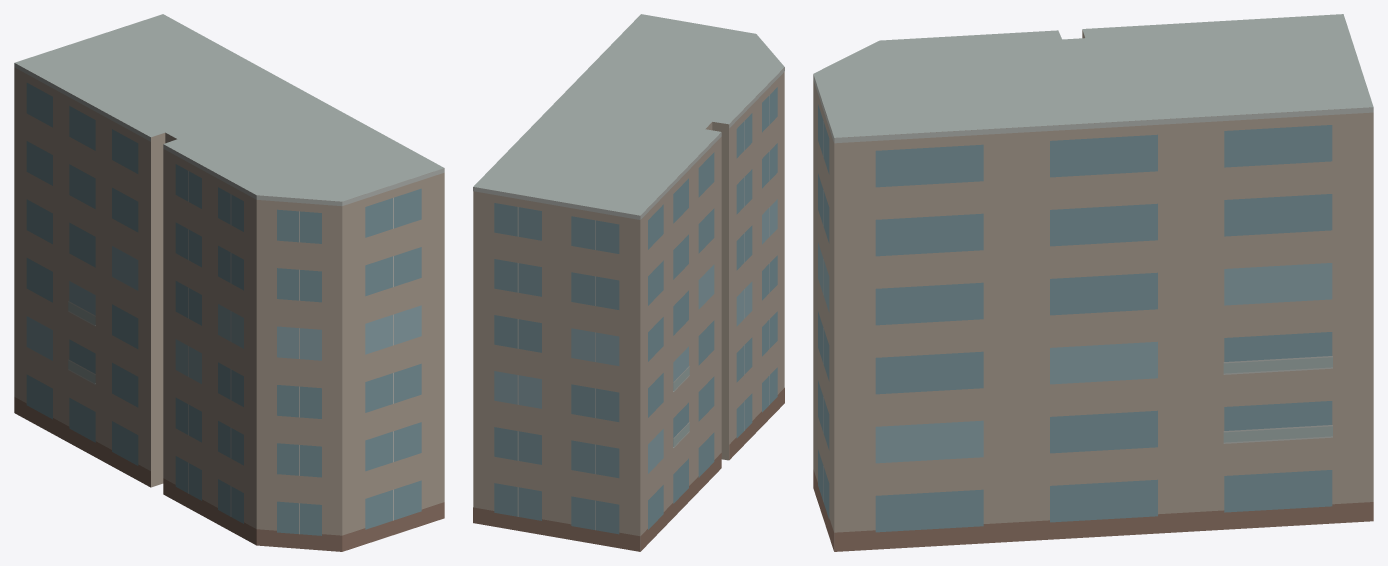
Rendered from survey-upis-32747908.glb.
3 views of the same model, side by side, from view 1: azimuth 30°, elevation 25°; view 2: azimuth 150°, elevation 25°; view 3: azimuth 270°, elevation 25° (orthographic). The views are drawn at different scales.
Parts seen in each view (by area): view 1: survey-upis-32747908.tmp; view 2: survey-upis-32747908.tmp; view 3: survey-upis-32747908.tmp.
Boxes of the visible parts, x1,y1,x2,y2 form: survey-upis-32747908.tmp: [14, 14, 444, 551]; survey-upis-32747908.tmp: [473, 14, 784, 551]; survey-upis-32747908.tmp: [813, 14, 1373, 551].
Bounding box in the file's own units: 12.08 × 18.8 × 23.07.
